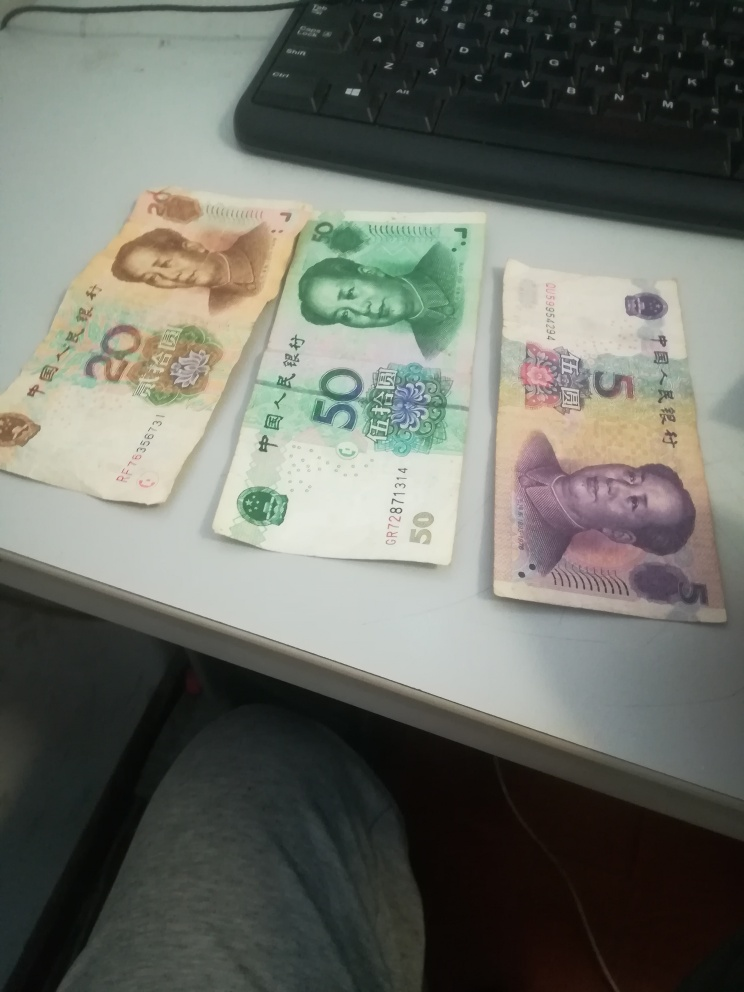rmb: (491, 256, 729, 634), (283, 209, 476, 570), (13, 175, 205, 534)
